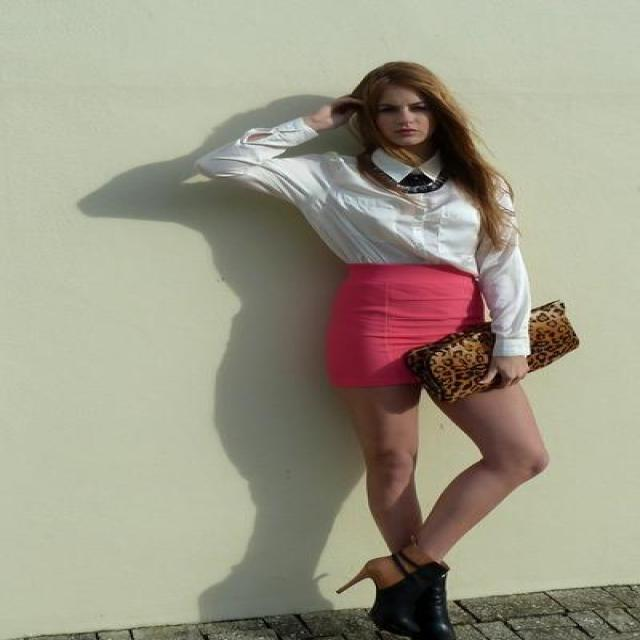bag: (402, 301, 578, 413)
shirt: (221, 118, 531, 356)
shoe: (342, 534, 447, 639)
shorts: (325, 262, 494, 388)
